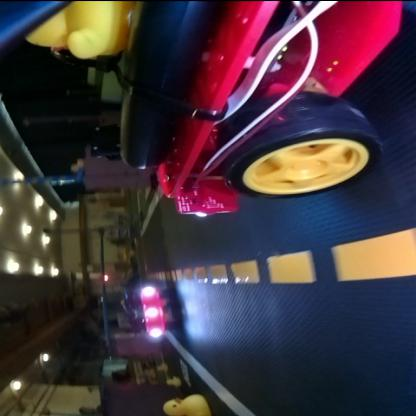Duckie: (26, 2, 132, 57), (163, 394, 209, 416), (166, 378, 180, 387), (157, 364, 167, 370)
Duckiebot: (116, 1, 400, 214), (125, 285, 176, 337)
QR code: (178, 360, 190, 386)
